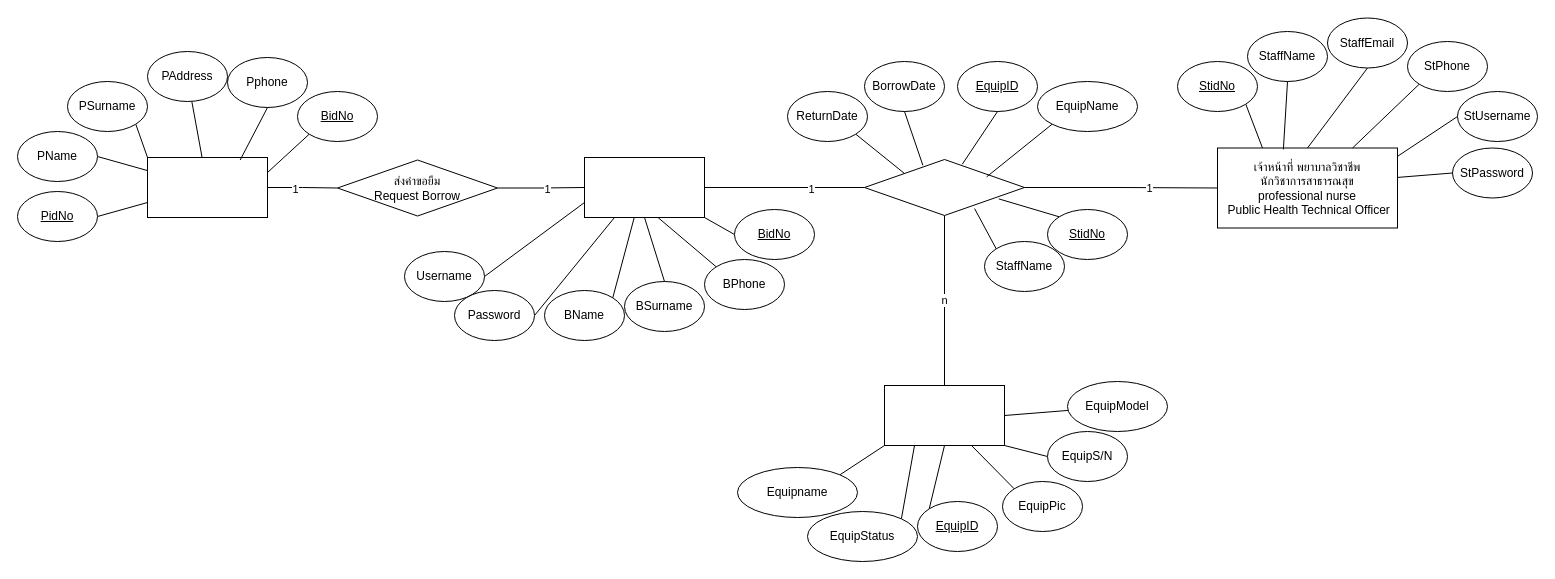
Some shapes in this 1555 by 579 pixel diagram are drawn without their labels. The centre of each missing label's shape, as x and y in pixels:
ผู้ป่วย UserPatient: the point at 207,187
ผู้ยืม UserBrrow: the point at 644,187
ลงทะเบียนยืม Register contract: the point at 944,187
อุปกรณ์ทางการแพทย์ medical equipment: the point at 944,415
